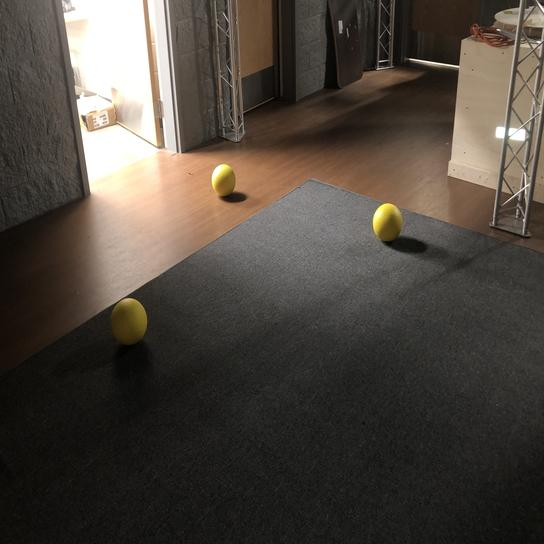ball: (106, 296, 149, 348), (368, 199, 407, 243), (210, 163, 238, 199)
